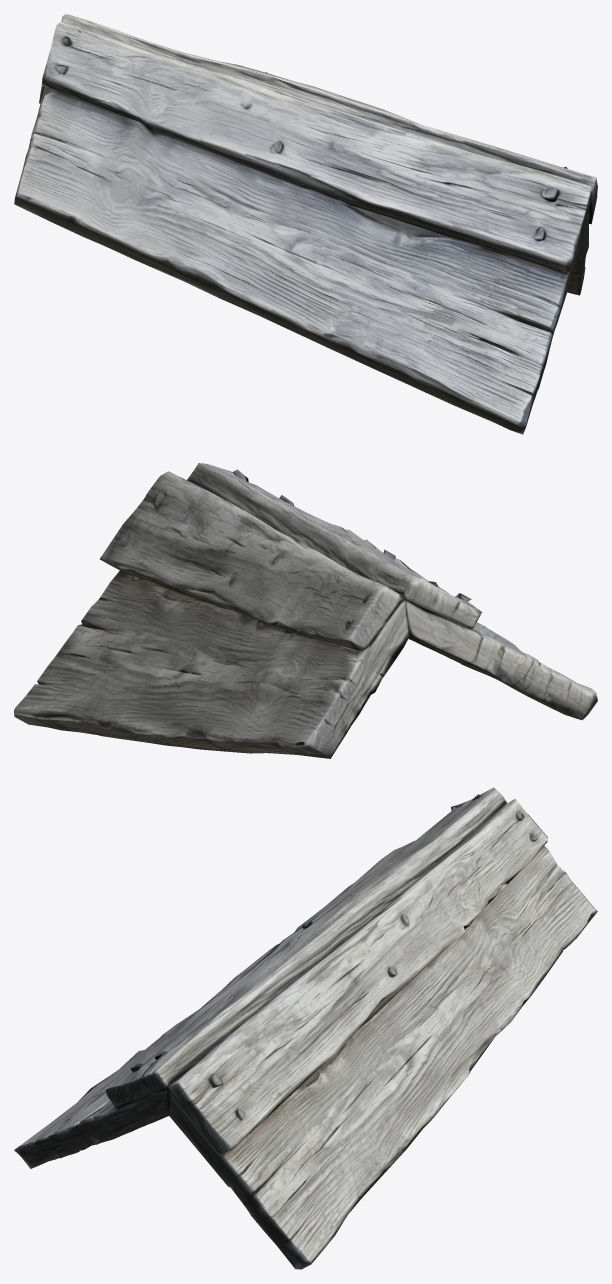
3 renders of one model, top to bottom at view 1: azimuth 30°, elevation 25°; view 2: azimuth 150°, elevation 25°; view 3: azimuth 270°, elevation 25°, orthographic. The views are drawn at different scales.
Parts seen in each view (by area): view 1: tripo_node_18dd64cf-be4c-4172-98c7-ab5218792a51; view 2: tripo_node_18dd64cf-be4c-4172-98c7-ab5218792a51; view 3: tripo_node_18dd64cf-be4c-4172-98c7-ab5218792a51.
Boxes of the visible parts, x1,y1,x2,y2 form: tripo_node_18dd64cf-be4c-4172-98c7-ab5218792a51: (14, 14, 597, 434); tripo_node_18dd64cf-be4c-4172-98c7-ab5218792a51: (14, 463, 597, 758); tripo_node_18dd64cf-be4c-4172-98c7-ab5218792a51: (14, 787, 597, 1269).
Bounding box in the file's own units: 0.9789 × 0.5329 × 0.9865.
1 material, 1 textured.
